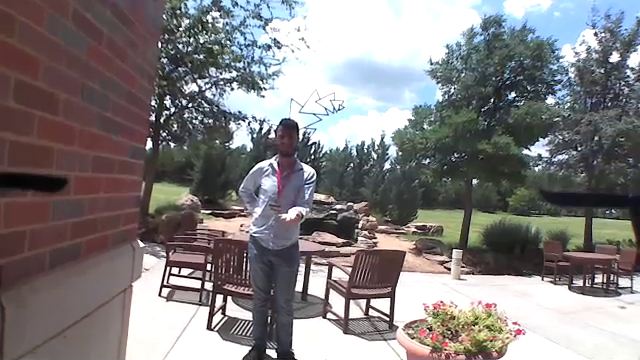land: (274, 206, 305, 228)
